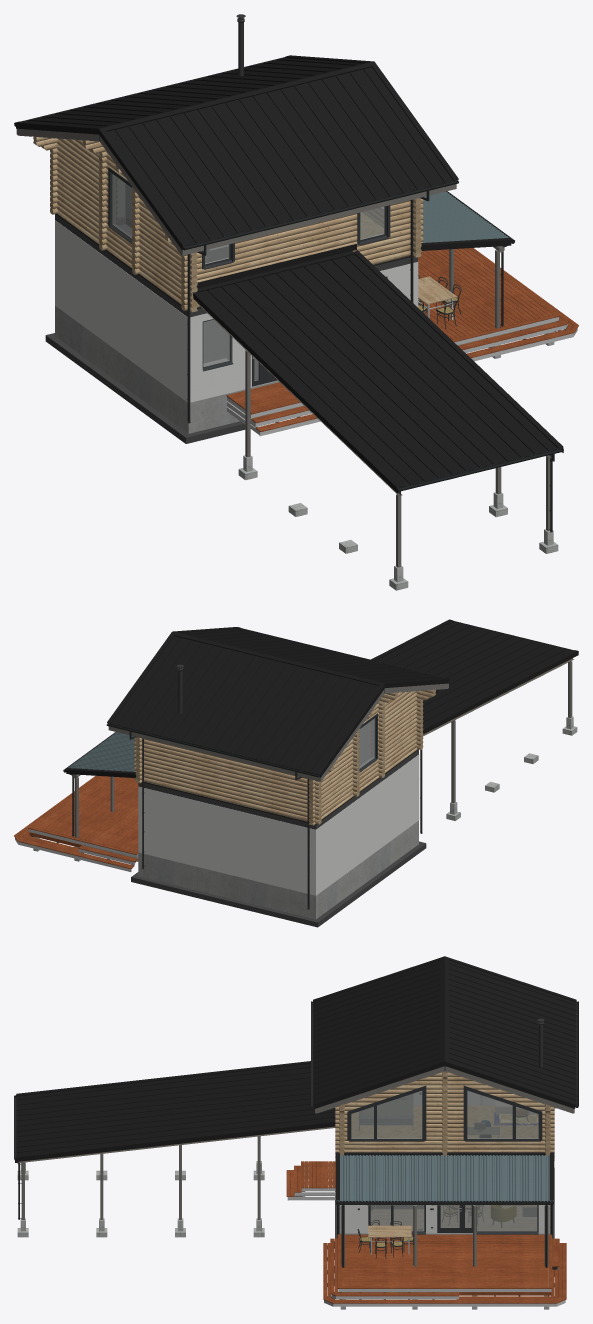
The model's file is Serg_Пылыповычи 2.fbx.
3 views of the same model, one above another, from view 1: azimuth 30°, elevation 25°; view 2: azimuth 150°, elevation 25°; view 3: azimuth 270°, elevation 25° (orthographic). The views are drawn at different scales.
Parts seen in each view (by area): view 1: object 542, object 497, СТН-02, object 496, СД-07, СД-01, F-10, object 500, СТН-01, SW - 100, СД-02 (×2), object 411 (+8 smaller); view 2: object 496, СТН-03, object 542, СД-05, СТН-02, object 497, СД-07, F-09, F-10, object 500, SW - 101, SW - 100 (+10 smaller); view 3: object 542, object 497, object 496, object 500, СД-04, OK - 09, OK - 10, Heating system, Плитка (×2), OK - 05, СТН-04, OK - 04 (+10 smaller).
Boxes of the visible parts, x1,y1,x2,y2 form: object 542: [192, 244, 563, 532]; object 497: [98, 61, 458, 423]; СТН-02: [55, 220, 187, 402]; object 496: [14, 55, 373, 134]; СД-07: [57, 138, 197, 312]; СД-01: [165, 198, 423, 310]; F-10: [58, 308, 184, 430]; object 500: [420, 191, 514, 326]; СТН-01: [190, 262, 418, 402]; SW - 100: [45, 333, 203, 443]; СД-02 (×2): [82, 140, 140, 274]; object 411: [181, 184, 456, 255]; object 496: [106, 631, 385, 909]; СТН-03: [138, 786, 315, 895]; object 542: [371, 619, 578, 733]; СД-05: [134, 737, 334, 824]; СТН-02: [316, 754, 419, 895]; object 497: [173, 627, 450, 833]; СД-07: [308, 691, 417, 825]; F-09: [143, 854, 318, 919]; F-10: [318, 823, 416, 916]; object 500: [63, 732, 136, 836]; SW - 101: [131, 872, 305, 923]; SW - 100: [304, 841, 426, 927]; object 542: [14, 1061, 335, 1219]; object 497: [311, 956, 444, 1238]; object 496: [445, 956, 578, 1238]; object 500: [335, 1152, 554, 1267]; СД-04: [335, 1072, 554, 1160]; OK - 09: [463, 1085, 542, 1141]; OK - 10: [347, 1085, 426, 1141]; Heating system: [351, 1106, 538, 1137]; Плитка (×2): [371, 1205, 536, 1230]; OK - 05: [476, 1205, 538, 1234]; СТН-04: [340, 1205, 549, 1233]; OK - 04: [368, 1205, 425, 1234].
Size of the model in its own units: 13.62 by 9.11 by 20.83.
Materials: 67 (30 with a texture image).
